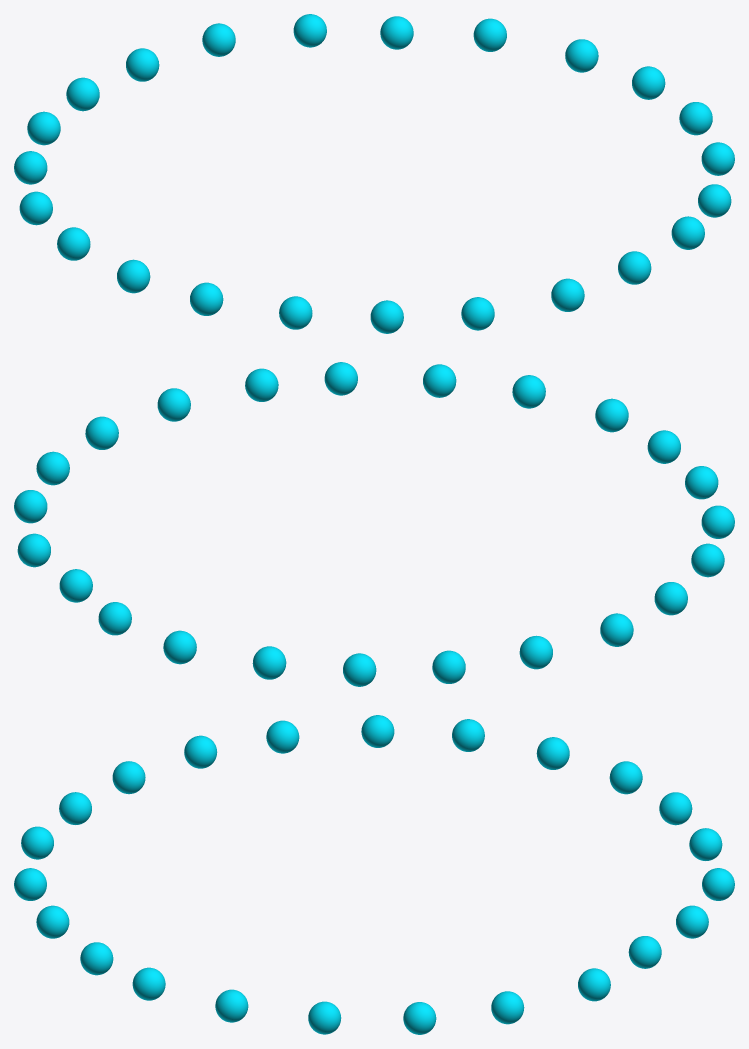
3 renders of one model, top to bottom at view 1: azimuth 30°, elevation 25°; view 2: azimuth 150°, elevation 25°; view 3: azimuth 270°, elevation 25°, orthographic.
Visible parts, largest first — view 1: Sphere050; view 2: Sphere050; view 3: Sphere050.
Part boxes in pixels (x1,y1,x2,y2): Sphere050: (14, 14, 734, 333); Sphere050: (14, 362, 734, 686); Sphere050: (14, 715, 734, 1034).
Bounding box in the file's own units: 177 × 8.22 × 179.
